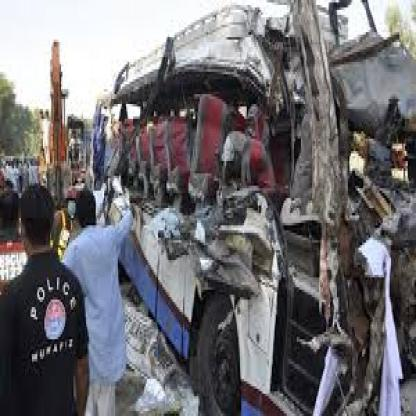accident: (73, 7, 416, 405)
